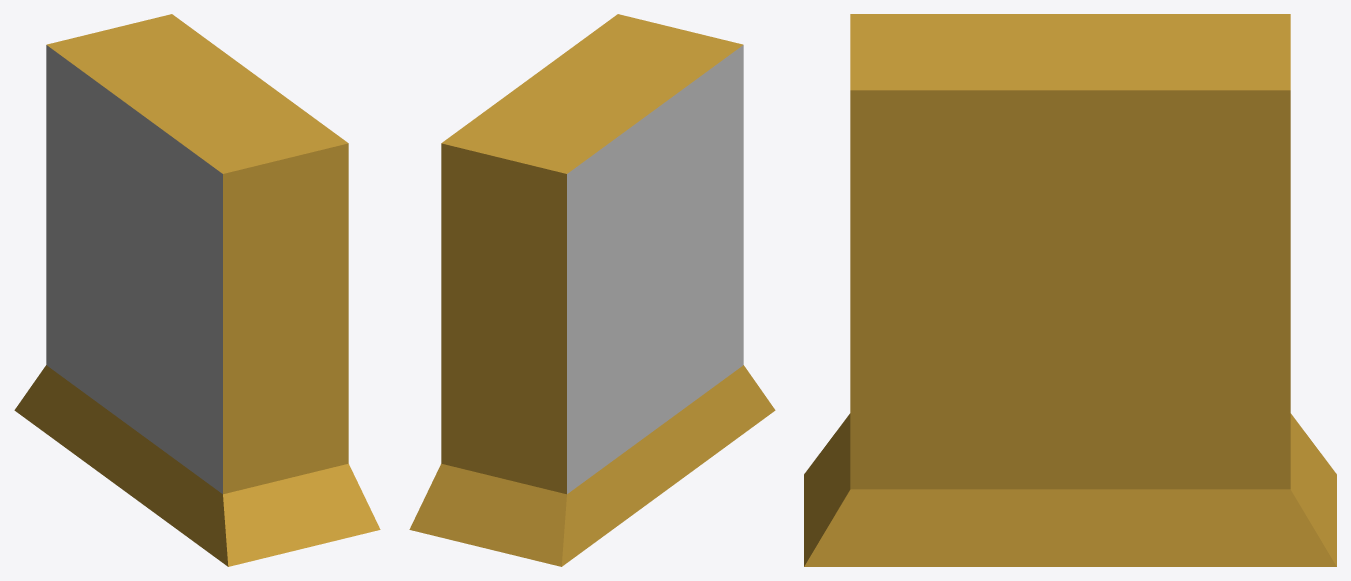
Rendered from mural.fbx.
3 renders of one model, left to right at view 1: azimuth 30°, elevation 25°; view 2: azimuth 150°, elevation 25°; view 3: azimuth 270°, elevation 25°, orthographic. The views are drawn at different scales.
Visible parts, largest first — view 1: Cube; view 2: Cube; view 3: Cube.
Boxes of the visible parts, x1,y1,x2,y2 form: Cube: (14,14,380,566); Cube: (409,14,775,566); Cube: (804,14,1336,566).
Size of the model in its own units: 0.9953 by 2.35 by 2.42.
